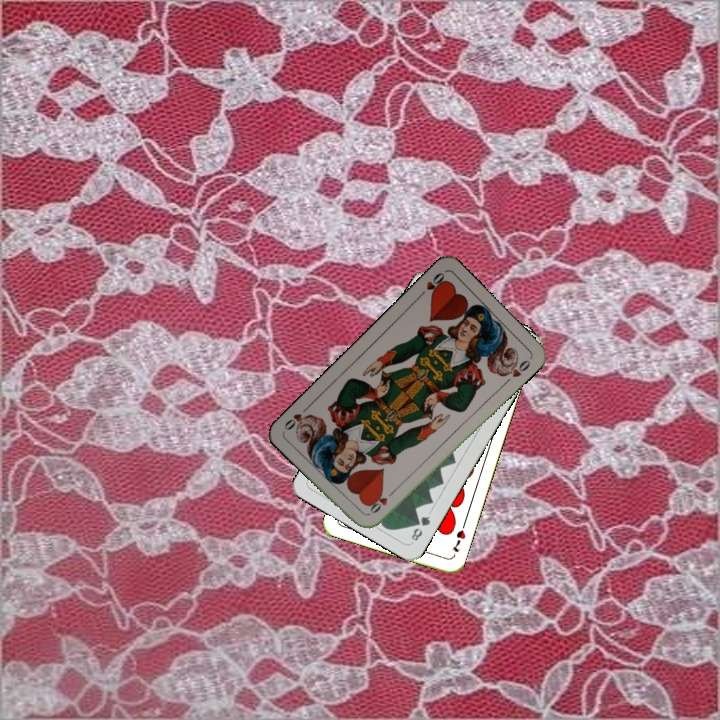G8: (407, 512, 433, 544)
H7: (447, 519, 468, 555)
HO: (414, 268, 449, 300), (364, 486, 398, 518)
